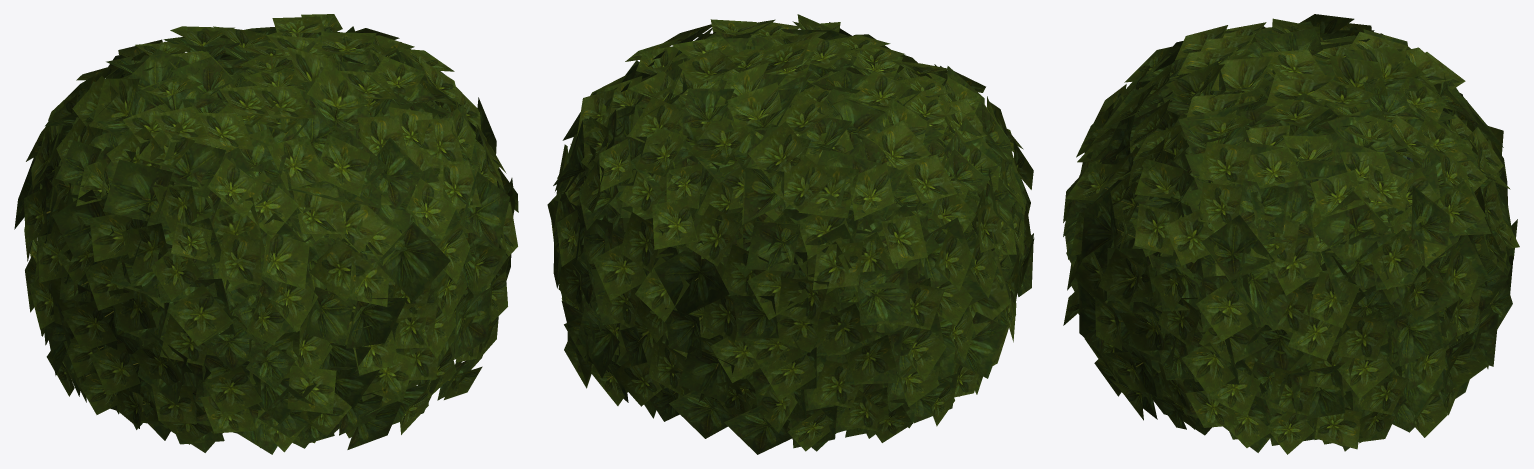
File: sm10_021_plant02a.fbx
The picture shows the model from 3 angles, left to right: view 1: azimuth 30°, elevation 25°; view 2: azimuth 150°, elevation 25°; view 3: azimuth 270°, elevation 25°; orthographic projection. The views are drawn at different scales.
Visible parts, largest first — view 1: LOD_1_Group_2_Sub_1__sm10_021_Plant02A_A_Mat__Env_RainLeafEf; view 2: LOD_1_Group_2_Sub_1__sm10_021_Plant02A_A_Mat__Env_RainLeafEf; view 3: LOD_1_Group_2_Sub_1__sm10_021_Plant02A_A_Mat__Env_RainLeafEf.
Boxes of the visible parts, x1=… form: LOD_1_Group_2_Sub_1__sm10_021_Plant02A_A_Mat__Env_RainLeafEf: x1=14, y1=14, x2=518, y2=454; LOD_1_Group_2_Sub_1__sm10_021_Plant02A_A_Mat__Env_RainLeafEf: x1=547, y1=14, x2=1034, y2=454; LOD_1_Group_2_Sub_1__sm10_021_Plant02A_A_Mat__Env_RainLeafEf: x1=1063, y1=14, x2=1519, y2=454.
Bounding box in the file's own units: 2.19 × 1.69 × 2.06.
